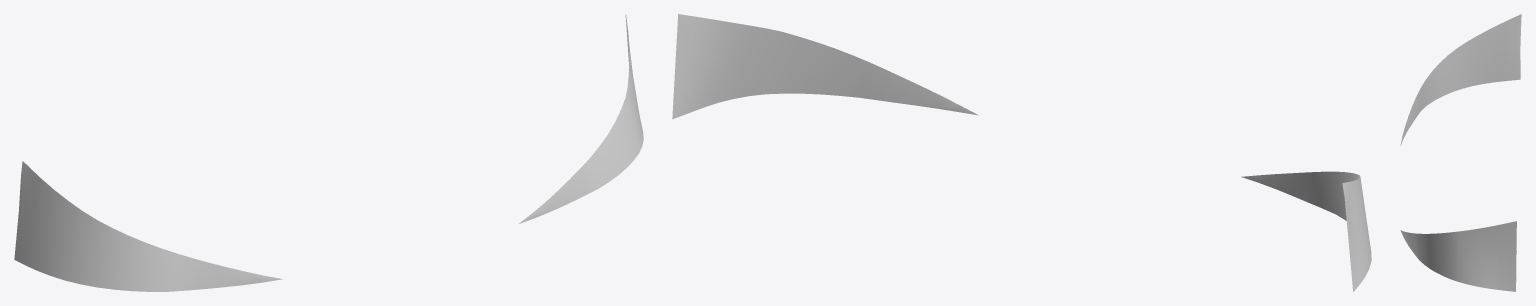
The model's file is Jac_Flic_BOTTOM_FACE.glb.
The picture shows the model from 3 angles, left to right: view 1: azimuth 30°, elevation 25°; view 2: azimuth 150°, elevation 25°; view 3: azimuth 270°, elevation 25°; orthographic projection. The views are drawn at different scales.
Visible parts, largest first — view 1: Jac_Flic_BOTTOM_FACE.001; view 2: Jac_Flic_BOTTOM_FACE.001; view 3: Jac_Flic_BOTTOM_FACE.001.
Boxes of the visible parts, left/top/right/bottom form: Jac_Flic_BOTTOM_FACE.001: left=14, top=14, right=643, bottom=291; Jac_Flic_BOTTOM_FACE.001: left=672, top=14, right=1371, bottom=291; Jac_Flic_BOTTOM_FACE.001: left=1400, top=14, right=1521, bottom=291.
Size of the model in its own units: 0.633 by 0.1028 by 0.1512.
1 material, 1 textured.
